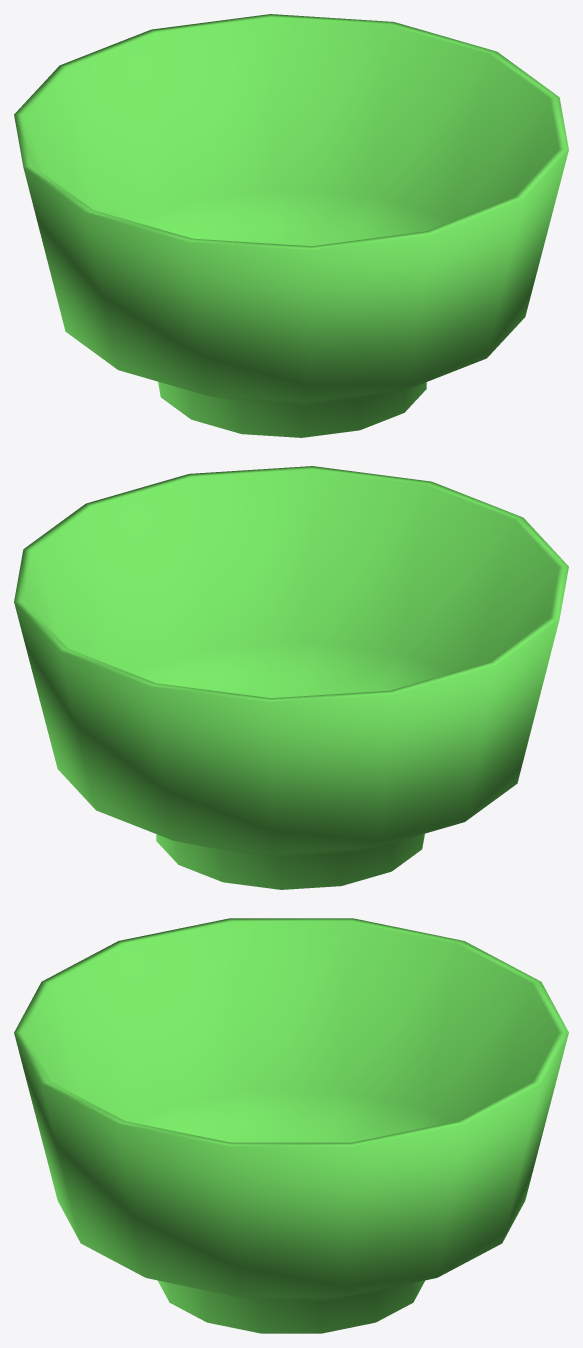
The model's file is GreenSBowl.fbx.
3 renders of one model, top to bottom at view 1: azimuth 30°, elevation 25°; view 2: azimuth 150°, elevation 25°; view 3: azimuth 270°, elevation 25°, orthographic.
Parts seen in each view (by area): view 1: bowl.006; view 2: bowl.006; view 3: bowl.006.
Part boxes in pixels (x1=…): bowl.006: x1=14, y1=14, x2=568, y2=437; bowl.006: x1=14, y1=466, x2=568, y2=889; bowl.006: x1=14, y1=918, x2=568, y2=1333.
Bounding box in the file's own units: 342 × 171 × 351.
